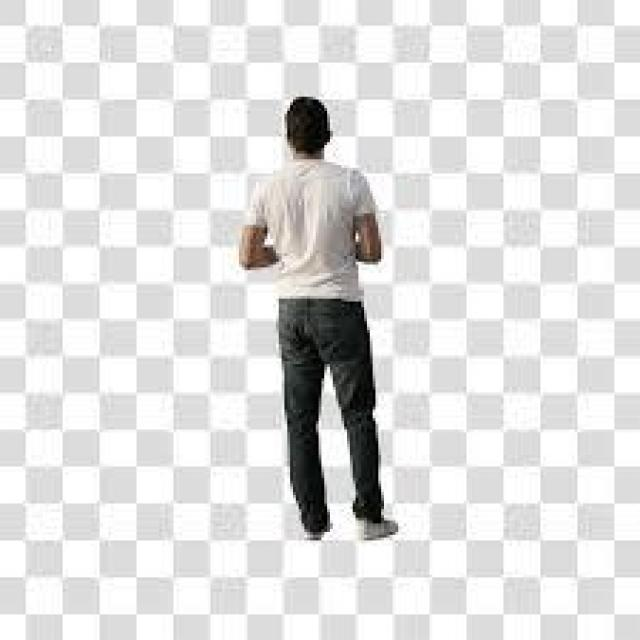person: (182, 14, 469, 555)
